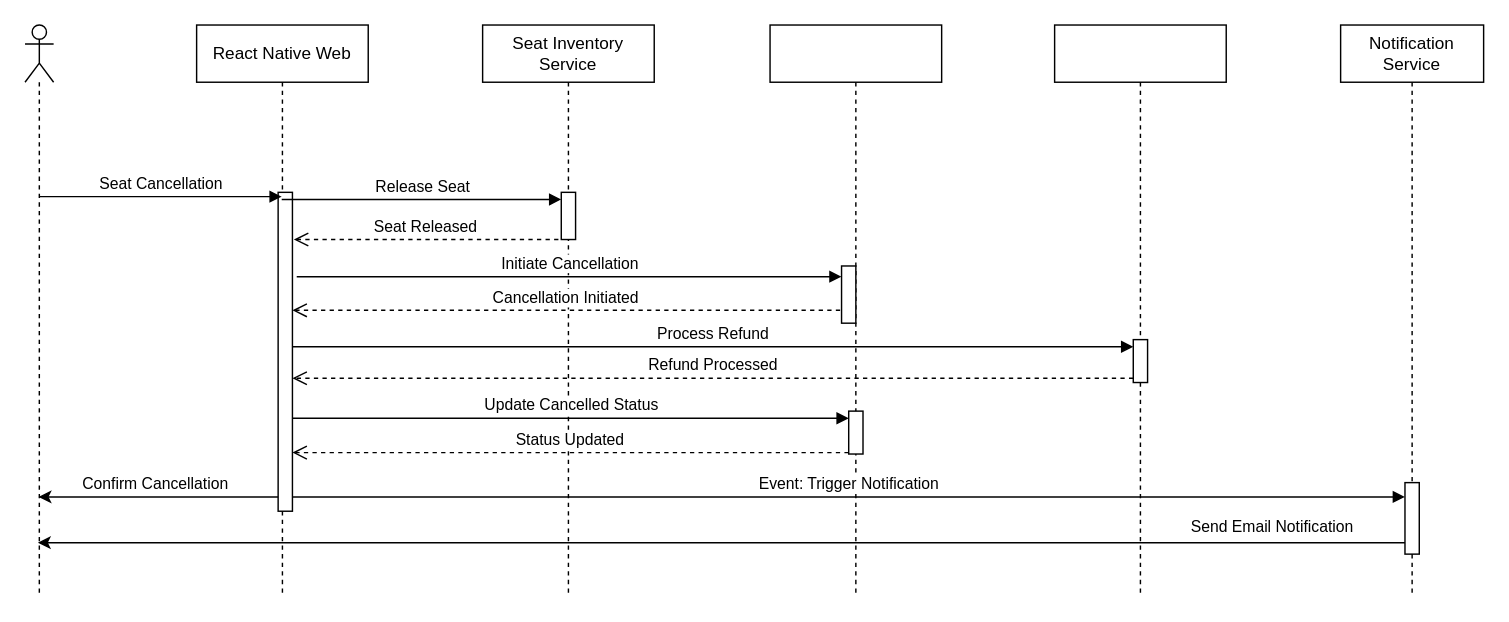
This 1509x622 diagram has some shape labels left out. Here are the shapes that lost their labels. From the top down, the box of each, then its label:
(769, 24, 942, 597): Booking Service
(1053, 24, 1226, 597): Billing Service
